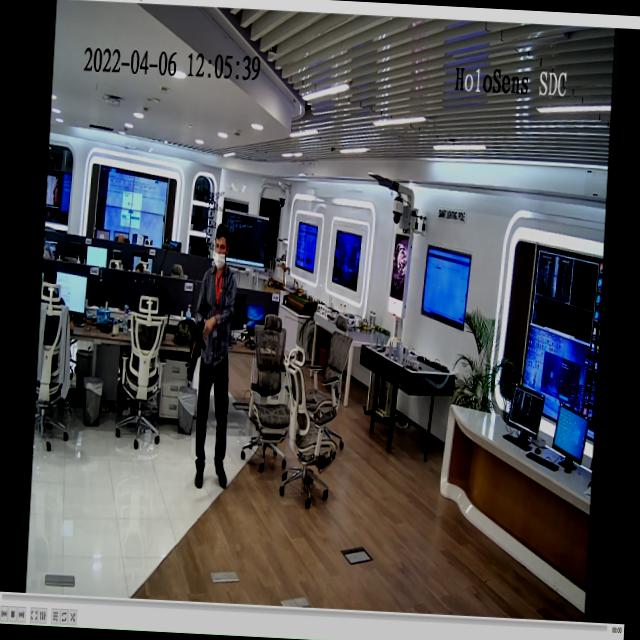long weapon: (178, 294, 221, 394)
